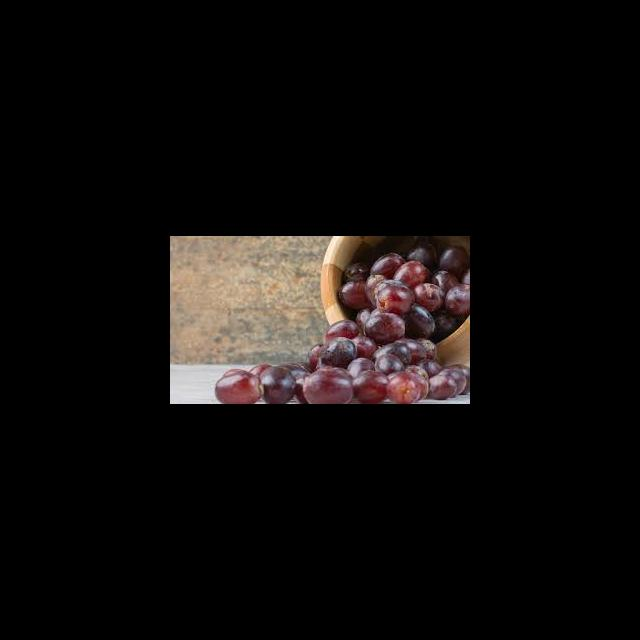grape: (214, 236, 469, 403)
